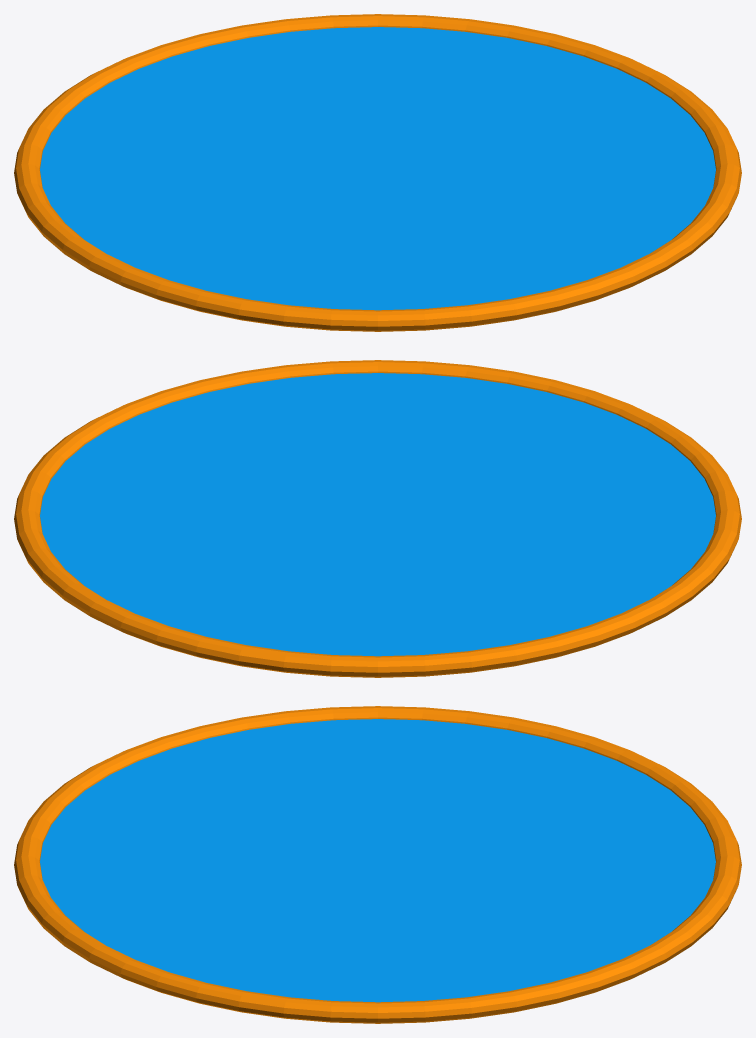
Rendered from Field.fbx.
3 views of the same model, one above another, from view 1: azimuth 30°, elevation 25°; view 2: azimuth 150°, elevation 25°; view 3: azimuth 270°, elevation 25° (orthographic).
Parts seen in each view (by area): view 1: Cylinder, Torus; view 2: Cylinder, Torus; view 3: Cylinder, Torus.
Part boxes in pixels (x1=…): Cylinder: x1=40, y1=27, x2=715, y2=310; Torus: x1=14, y1=14, x2=741, y2=331; Cylinder: x1=40, y1=373, x2=715, y2=656; Torus: x1=14, y1=360, x2=741, y2=677; Cylinder: x1=40, y1=719, x2=715, y2=1002; Torus: x1=14, y1=706, x2=741, y2=1023.
Size of the model in its own units: 180 by 5.01 by 180.
2 materials, 2 textured.
